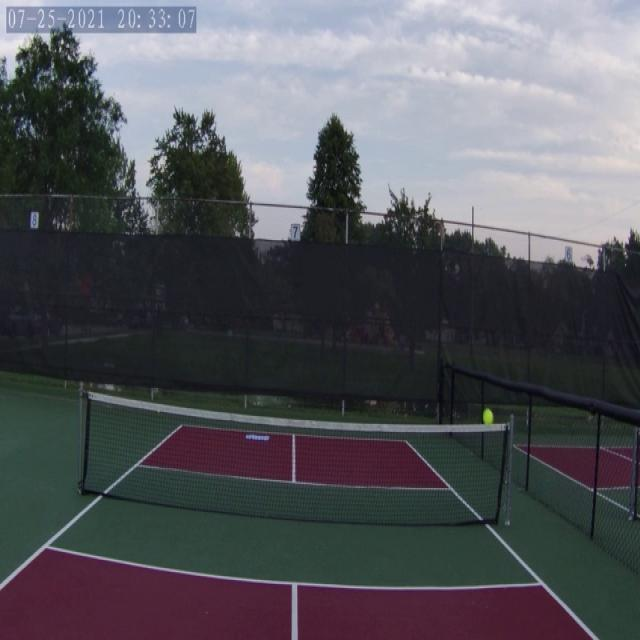ball: (474, 401, 499, 427)
